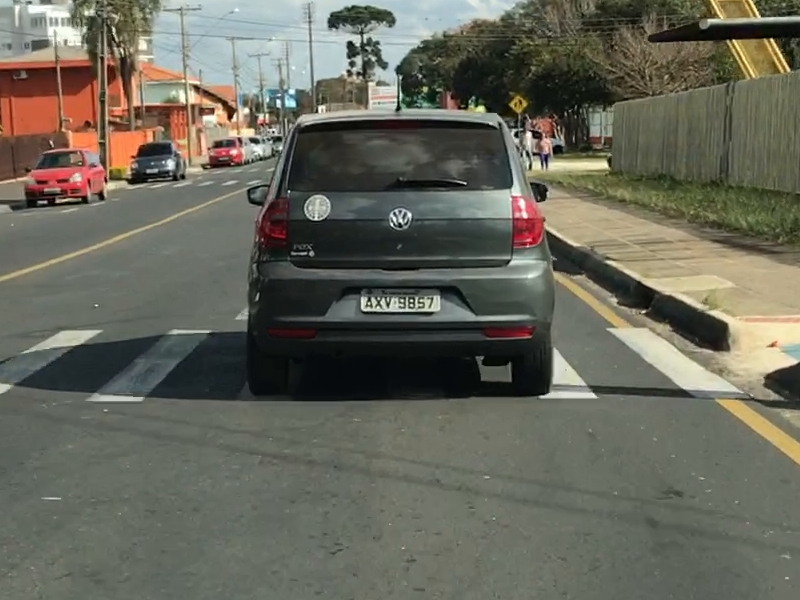placa: (360, 288, 441, 312)
